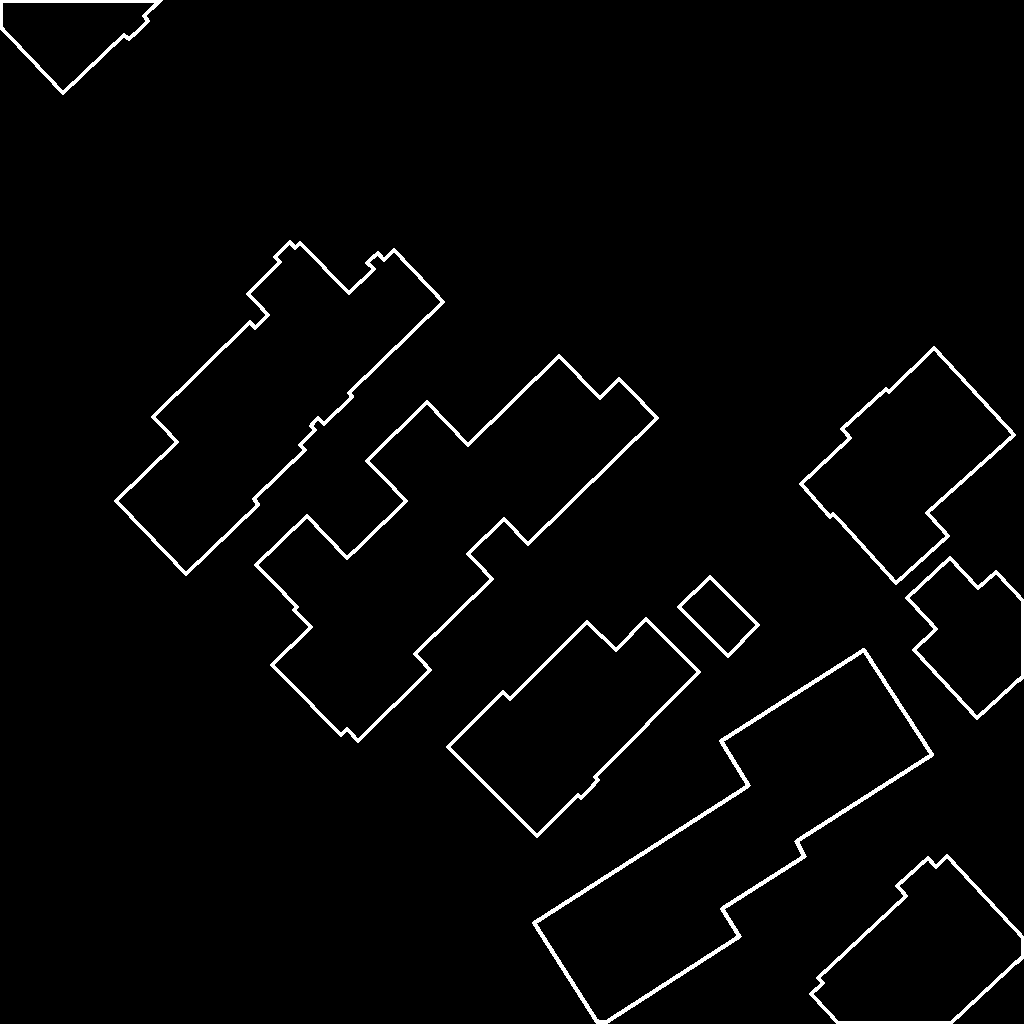building: (256, 356, 658, 742), (534, 650, 933, 1024), (116, 242, 444, 575), (448, 619, 700, 837), (801, 348, 1015, 584), (811, 856, 1024, 1024), (907, 558, 1024, 719), (0, 0, 162, 94), (679, 577, 759, 657)
